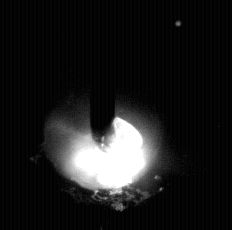arame: (91, 0, 116, 151)
poca: (44, 0, 163, 230)
